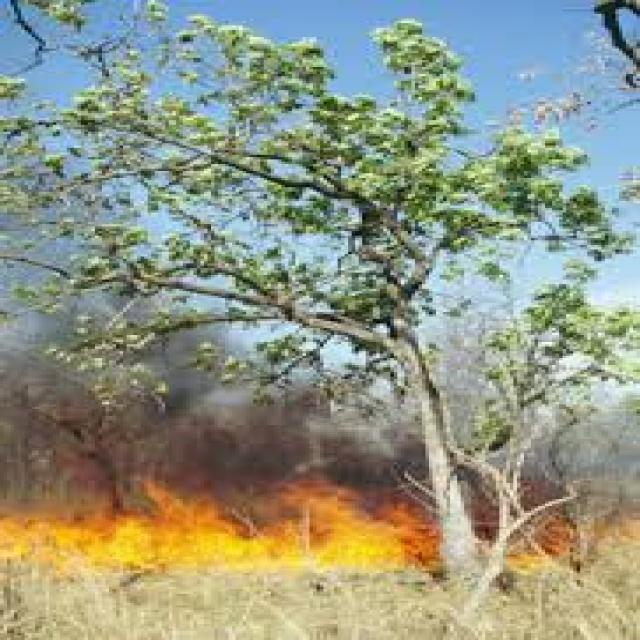Fire: (6, 494, 417, 574)
Smoke: (10, 340, 348, 470)
